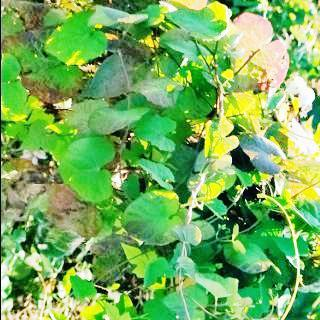leaf spot: (1, 2, 93, 109), (25, 184, 111, 244)
